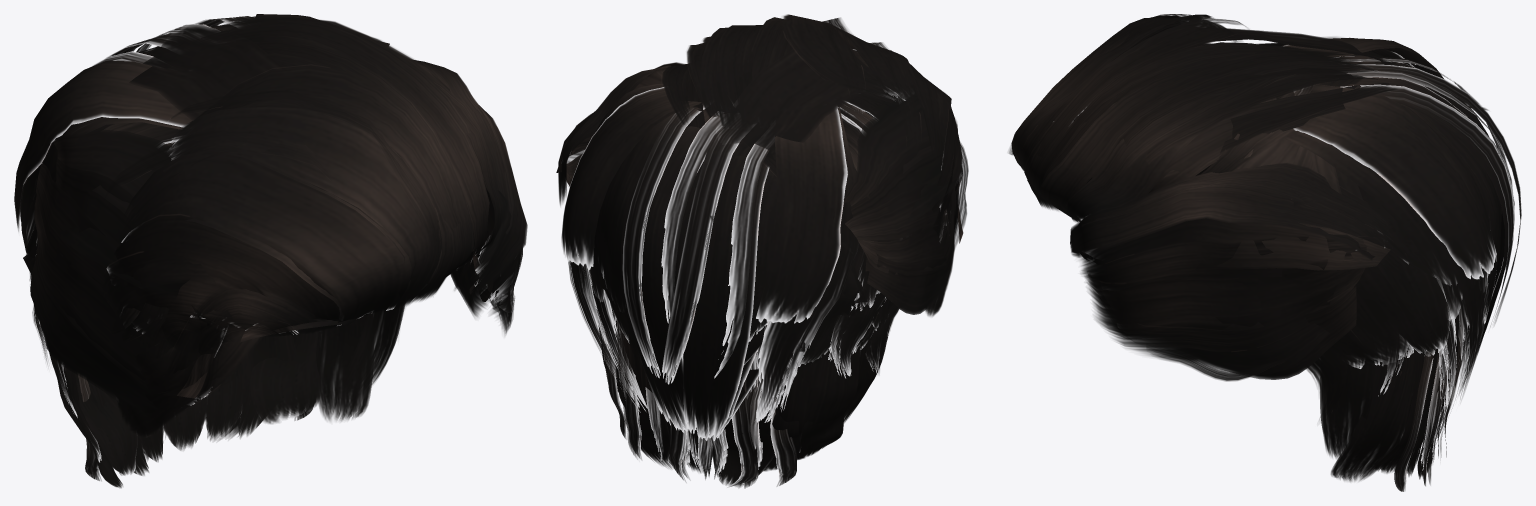
Rendered from diamond_wavy_01 FrenchCropStraight.glb.
3 views of the same model, side by side, from view 1: azimuth 30°, elevation 25°; view 2: azimuth 150°, elevation 25°; view 3: azimuth 270°, elevation 25° (orthographic). The views are drawn at different scales.
Visible parts, largest first — view 1: COMB OVER; view 2: COMB OVER; view 3: COMB OVER.
Part boxes in pixels (left/top/right/bottom): COMB OVER: left=14, top=14, right=527, bottom=488; COMB OVER: left=556, top=14, right=968, bottom=488; COMB OVER: left=1009, top=14, right=1521, bottom=491.
Bounding box in the file's own units: 0.2029 × 0.2197 × 0.2393.
1 material, 1 textured.
